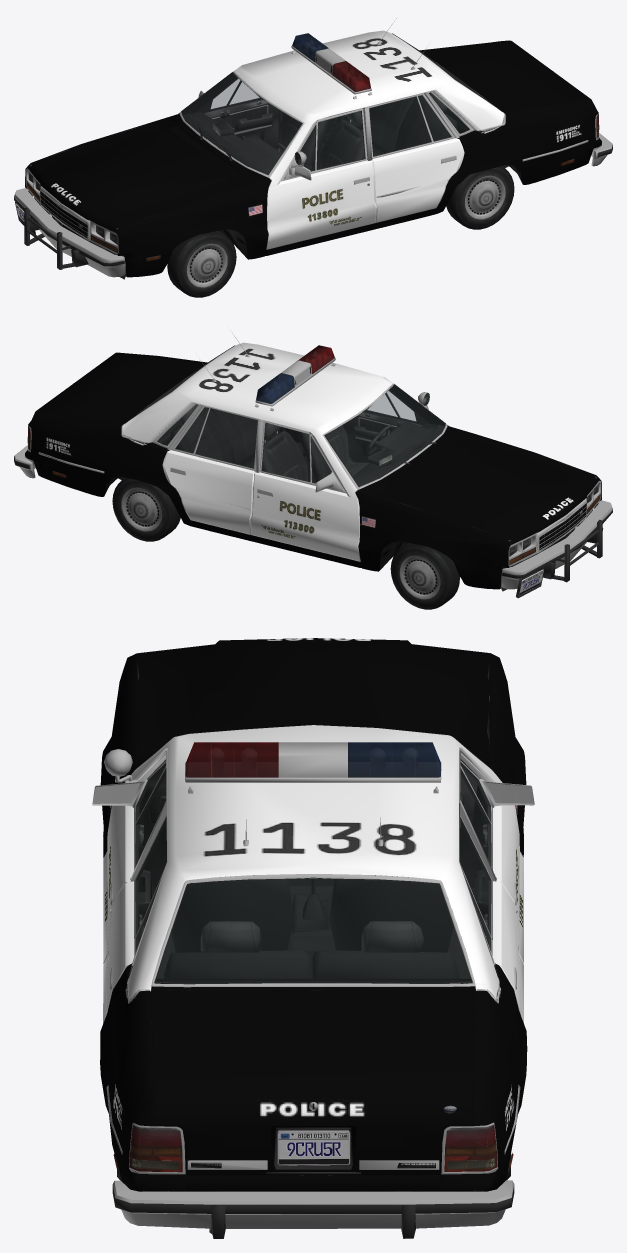
File: v_cop.glb
3 renders of one model, top to bottom at view 1: azimuth 30°, elevation 25°; view 2: azimuth 150°, elevation 25°; view 3: azimuth 270°, elevation 25°, orthographic. The views are drawn at different scales.
Visible parts, largest first — view 1: body_Bodycolor_0, Hood_Bodycolor_0, Door_FL_Bodycolor_0, Seats_GEN4DR_INTERIOR_0, trunk_door_Bodycolor_0, Wiendshield_UCB_GLASS_CLEAN_0, Door_RL_Bodycolor_0, Wheel_FL_RIMSTOCK_05_0, Door_Glass_RL_UCB_GLASS_CLEAN_0, Wheel_RL_RIMSTOCK_05_0, bumper_front_UCB_BOTTOM_0, Door_Glass_FL_UCB_GLASS_CLEAN_0 (+14 smaller); view 2: body_Bodycolor_0, Hood_Bodycolor_0, Door_FR_Bodycolor_0, Seats_GEN4DR_INTERIOR_0, trunk_door_Bodycolor_0, Wiendshield_UCB_GLASS_CLEAN_0, Door_RR_Bodycolor_0, Wheel_FR_RIMSTOCK_05_0, Door_Glass_RR_UCB_GLASS_CLEAN_0, Wheel_RR_RIMSTOCK_05_0, Door_Glass_FR_UCB_GLASS_CLEAN_0, bumper_front_UCB_BOTTOM_0 (+14 smaller); view 3: body_Bodycolor_0, trunk_door_Bodycolor_0, Hood_Bodycolor_0, Windows_rear_UCB_GLASS_CLEAN_0, Seats_GEN4DR_INTERIOR_0, bumper_rear_UCB_BOTTOM_0, Lightbar_glass_Riverside88_lights_0, Bodytrim_UCB_BOTTOM_0, interior_GEN4DR_INTERIOR_0, Lightbar_UCB_BOTTOM_0, Door_FL_Bodycolor_0, Door_FR_Bodycolor_0 (+20 smaller).
Boxes of the visible parts, x1=… form: body_Bodycolor_0: x1=25, y1=30, x2=601, y2=277; Hood_Bodycolor_0: x1=28, y1=121, x2=244, y2=232; Door_FL_Bodycolor_0: x1=266, y1=160, x2=376, y2=249; Seats_GEN4DR_INTERIOR_0: x1=275, y1=93, x2=457, y2=170; trunk_door_Bodycolor_0: x1=422, y1=41, x2=590, y2=111; Wiendshield_UCB_GLASS_CLEAN_0: x1=181, y1=73, x2=301, y2=173; Door_RL_Bodycolor_0: x1=372, y1=138, x2=464, y2=222; Wheel_FL_RIMSTOCK_05_0: x1=167, y1=230, x2=236, y2=297; Door_Glass_RL_UCB_GLASS_CLEAN_0: x1=369, y1=95, x2=451, y2=156; Wheel_RL_RIMSTOCK_05_0: x1=446, y1=166, x2=514, y2=229; bumper_front_UCB_BOTTOM_0: x1=14, y1=188, x2=125, y2=277; Door_Glass_FL_UCB_GLASS_CLEAN_0: x1=301, y1=111, x2=365, y2=171; body_Bodycolor_0: x1=25, y1=342, x2=601, y2=589; Hood_Bodycolor_0: x1=382, y1=434, x2=598, y2=544; Door_FR_Bodycolor_0: x1=250, y1=472, x2=360, y2=561; Seats_GEN4DR_INTERIOR_0: x1=170, y1=404, x2=369, y2=482; trunk_door_Bodycolor_0: x1=36, y1=353, x2=204, y2=423; Wiendshield_UCB_GLASS_CLEAN_0: x1=325, y1=385, x2=445, y2=485; Door_RR_Bodycolor_0: x1=162, y1=450, x2=254, y2=534; Wheel_FR_RIMSTOCK_05_0: x1=390, y1=542, x2=459, y2=609; Door_Glass_RR_UCB_GLASS_CLEAN_0: x1=175, y1=407, x2=257, y2=468; Wheel_RR_RIMSTOCK_05_0: x1=112, y1=478, x2=180, y2=541; Door_Glass_FR_UCB_GLASS_CLEAN_0: x1=261, y1=423, x2=331, y2=483; bumper_front_UCB_BOTTOM_0: x1=501, y1=500, x2=612, y2=598; body_Bodycolor_0: x1=100, y1=653, x2=527, y2=1191; trunk_door_Bodycolor_0: x1=151, y1=990, x2=475, y2=1175; Hood_Bodycolor_0: x1=137, y1=638, x2=489, y2=752; Windows_rear_UCB_GLASS_CLEAN_0: x1=156, y1=878, x2=470, y2=983; Seats_GEN4DR_INTERIOR_0: x1=164, y1=875, x2=459, y2=984; bumper_rear_UCB_BOTTOM_0: x1=112, y1=1180, x2=514, y2=1238; Lightbar_glass_Riverside88_lights_0: x1=185, y1=742, x2=440, y2=777; Bodytrim_UCB_BOTTOM_0: x1=106, y1=727, x2=520, y2=1172; interior_GEN4DR_INTERIOR_0: x1=138, y1=785, x2=488, y2=984; Lightbar_UCB_BOTTOM_0: x1=185, y1=742, x2=441, y2=793; Door_FL_Bodycolor_0: x1=103, y1=805, x2=133, y2=963; Door_FR_Bodycolor_0: x1=493, y1=782, x2=523, y2=963.
Bounding box in the file's own units: 5.03 × 1.57 × 1.83.
Materials: 8 (8 with a texture image).
